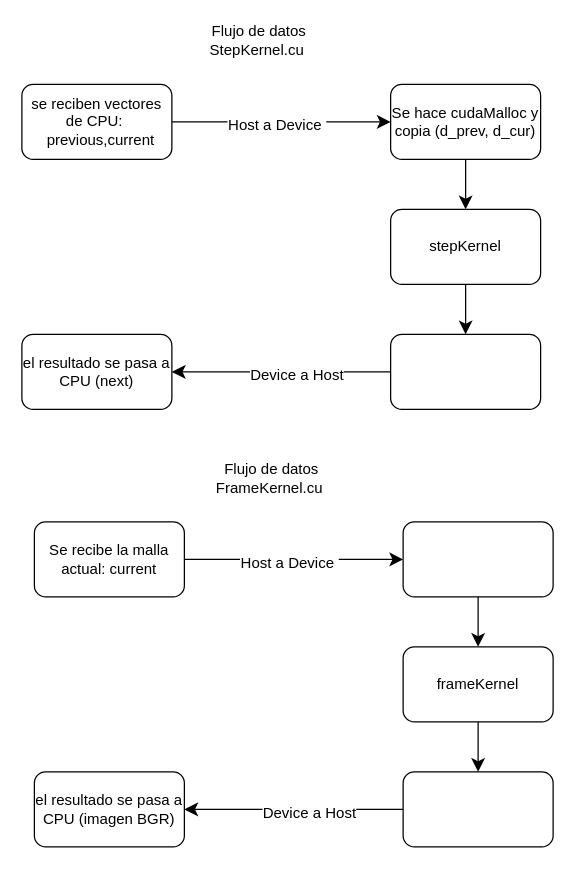
This 575x869 diagram has some shape labels left out. The shapes that lost their labels are listed below. From the top down, each one's box as (x1, y1, x2, y2) in pixels, then its label:
(389, 333, 541, 409): resultado del paso (d_next)
(402, 521, 553, 597): Se hace cudaMalloc y copia (d_height)
(402, 771, 553, 847): imágen terminada (d_image), que es un arreglo de valores para cada pixel
